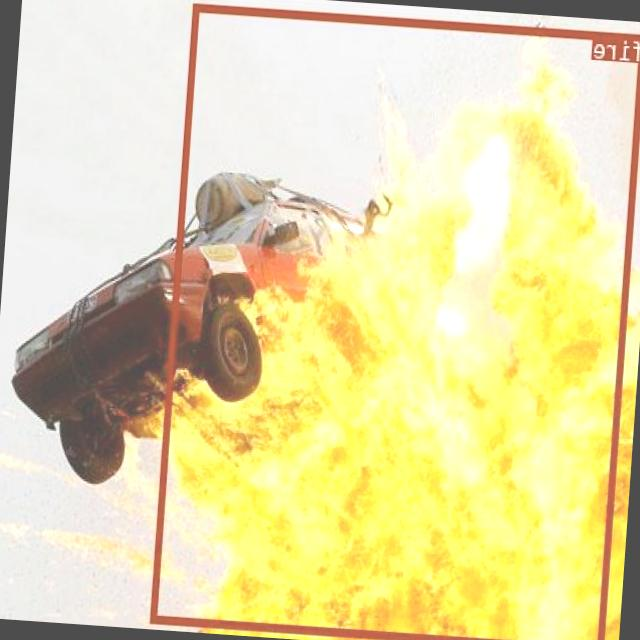fire: (151, 2, 640, 640)
